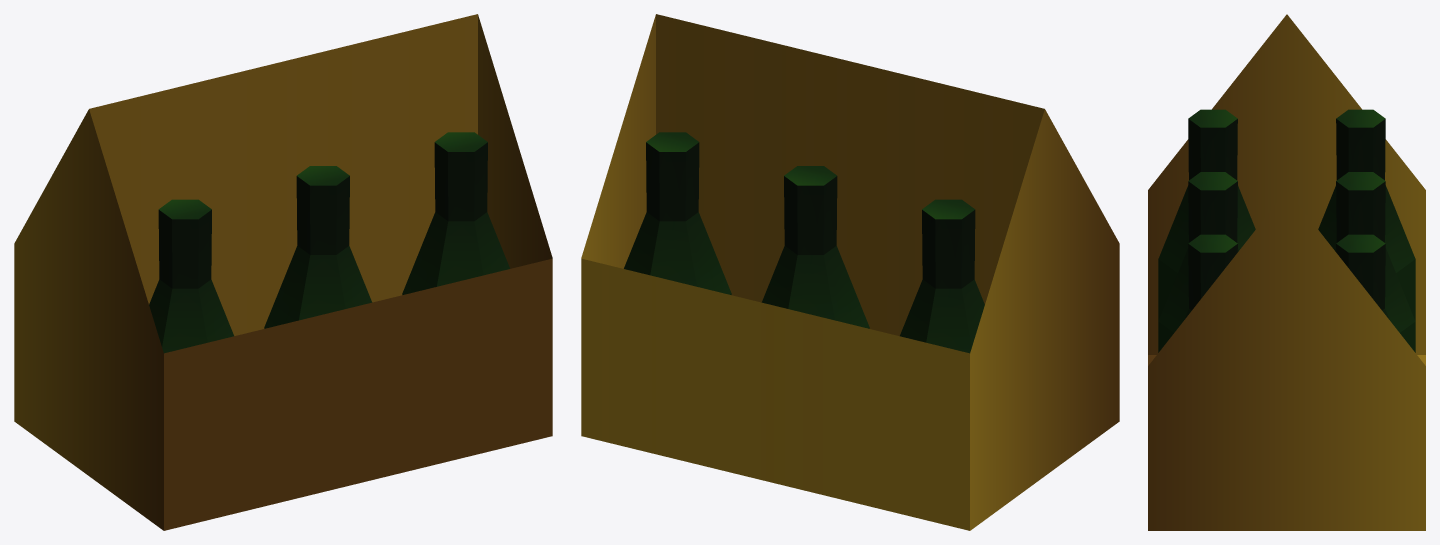
The model's file is InteriorItem_009.fbx.
3 renders of one model, left to right at view 1: azimuth 30°, elevation 25°; view 2: azimuth 150°, elevation 25°; view 3: azimuth 270°, elevation 25°, orthographic. The views are drawn at different scales.
Visible parts, largest first — view 1: InteriorItem_009; view 2: InteriorItem_009; view 3: InteriorItem_009.
Boxes of the visible parts, x1,y1,x2,y2 form: InteriorItem_009: (14,14,552,530); InteriorItem_009: (581,14,1119,530); InteriorItem_009: (1148,14,1425,530).
Bounding box in the file's own units: 42.28 × 38.16 × 28.19.
